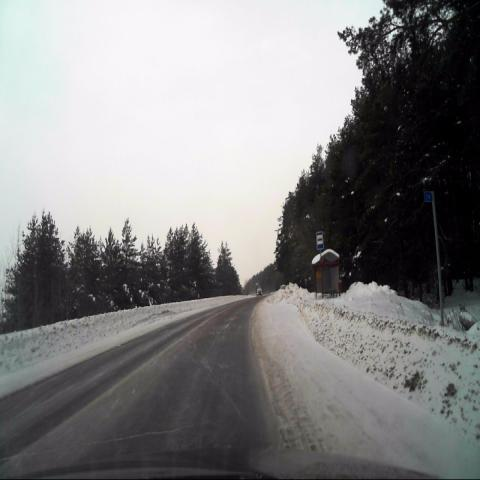5_16: (316, 231, 323, 248)
